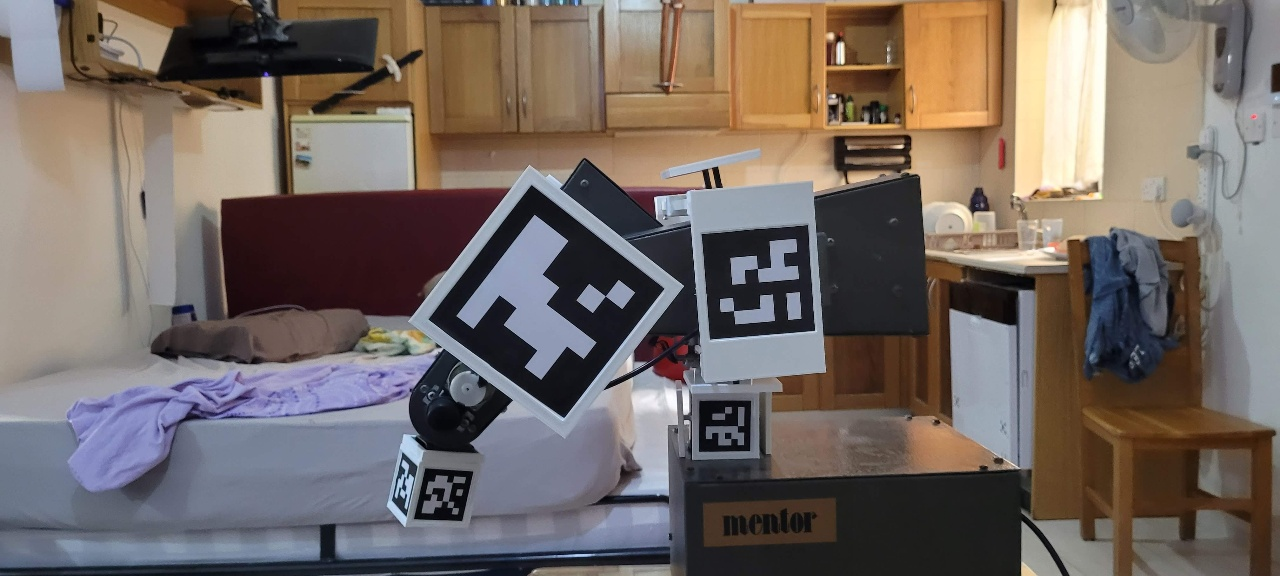Robot: (305, 18, 903, 576)
